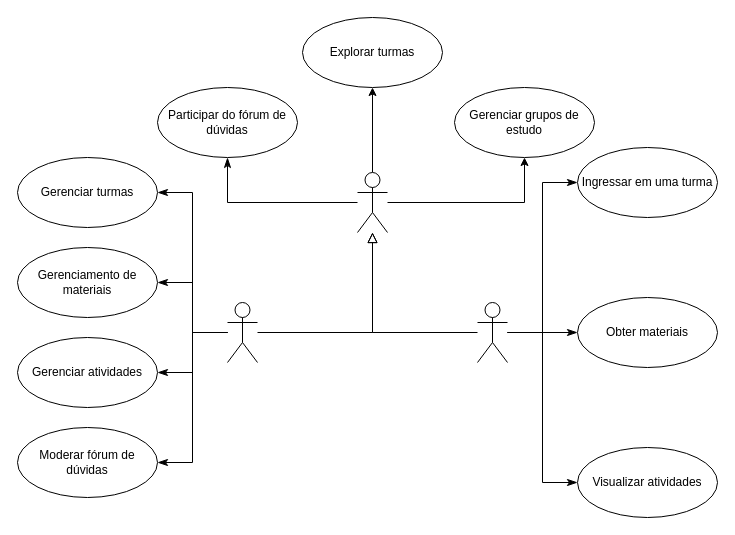
The diagram is 735 pixels wide and 535 high, and some of its shapes have lost their labels. The shapes that lost their labels are listed below. From the top down, each one's centre as x and y in pixels, then its label:
(x=372, y=202): Usuário
(x=242, y=332): Professor
(x=492, y=332): Aluno
